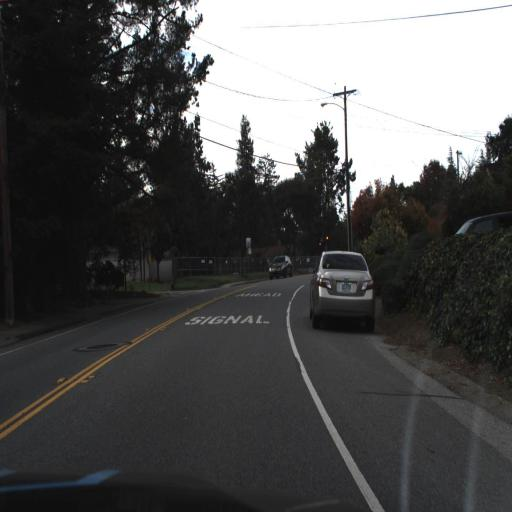car: (307, 245, 375, 323), (267, 249, 294, 278)
